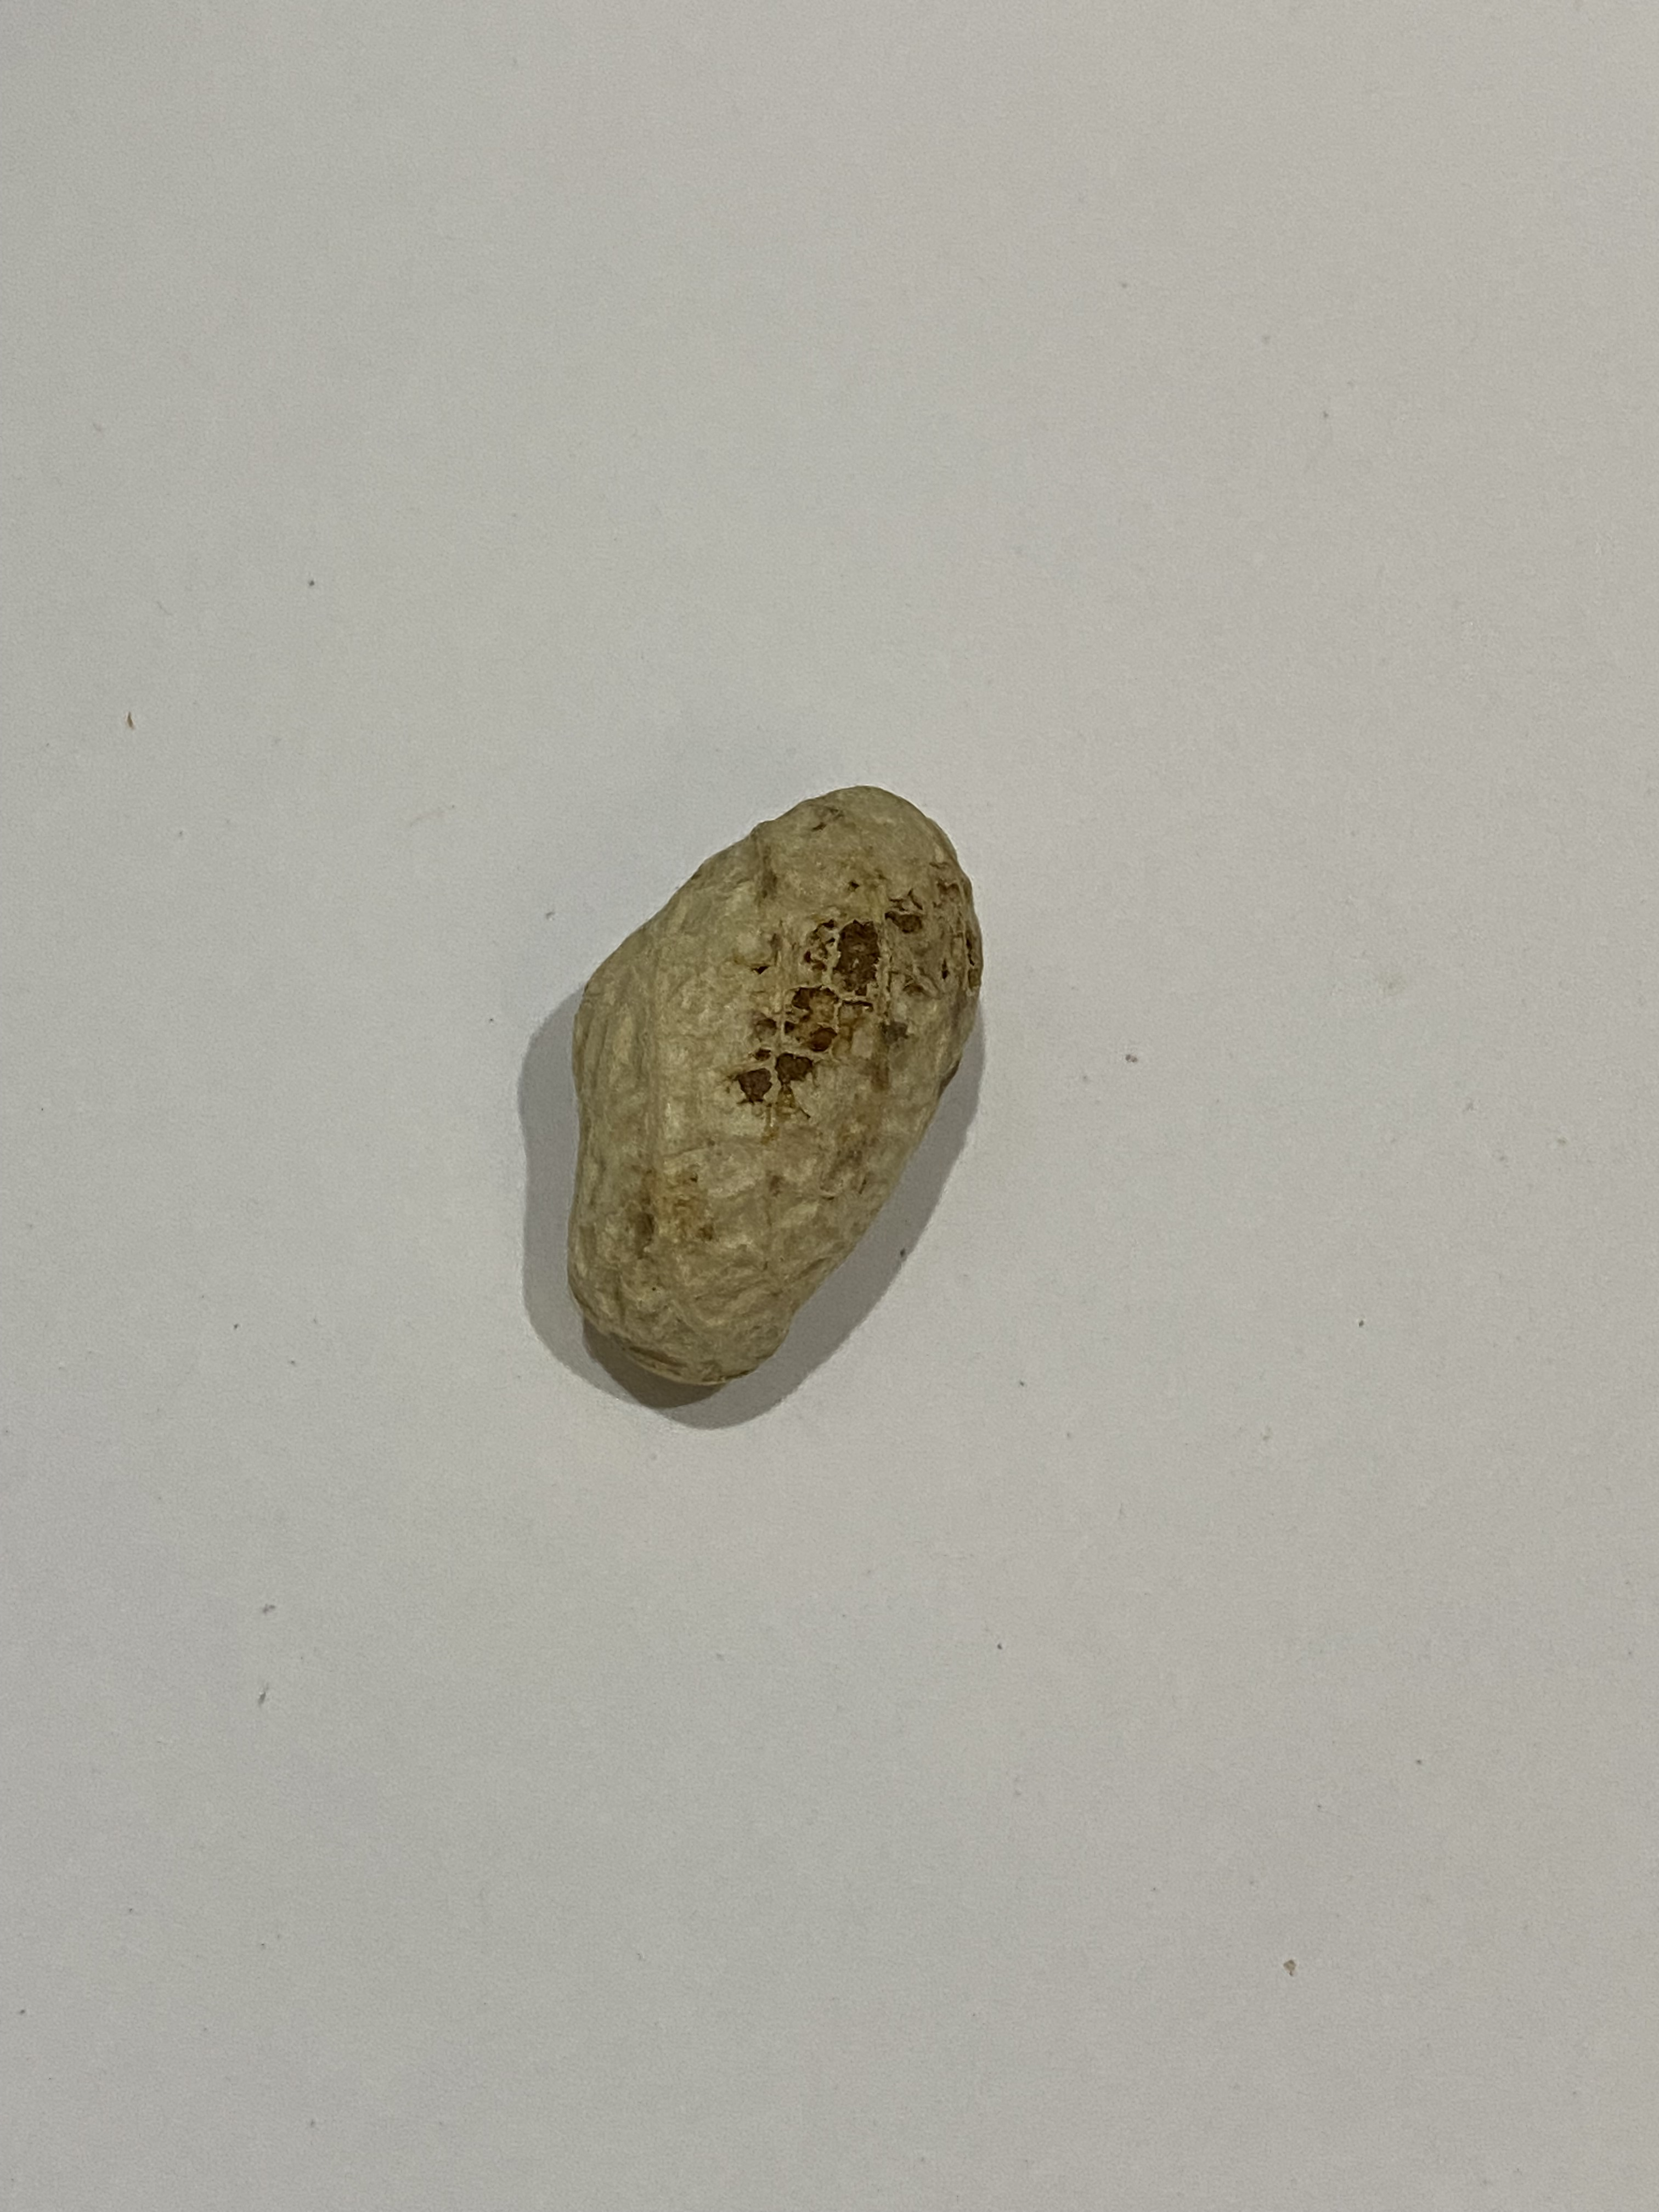kacang2: (556, 740, 995, 1413)
